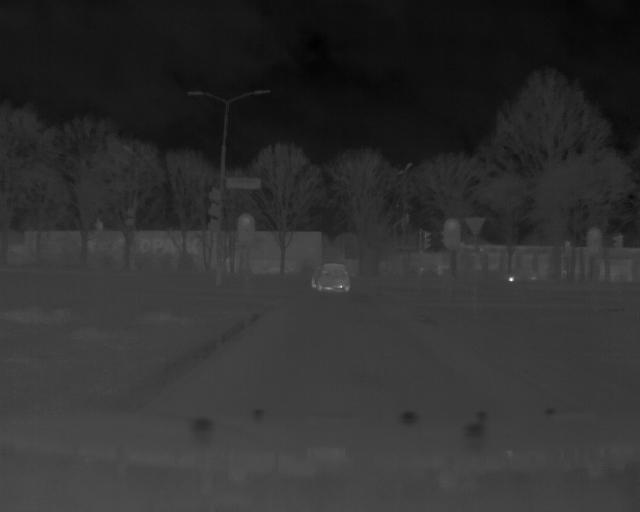car: (309, 262, 352, 293)
